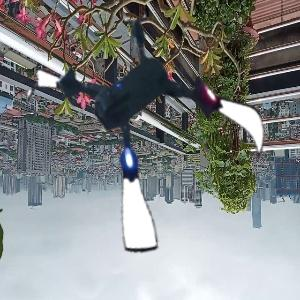drone: (30, 3, 279, 252)
